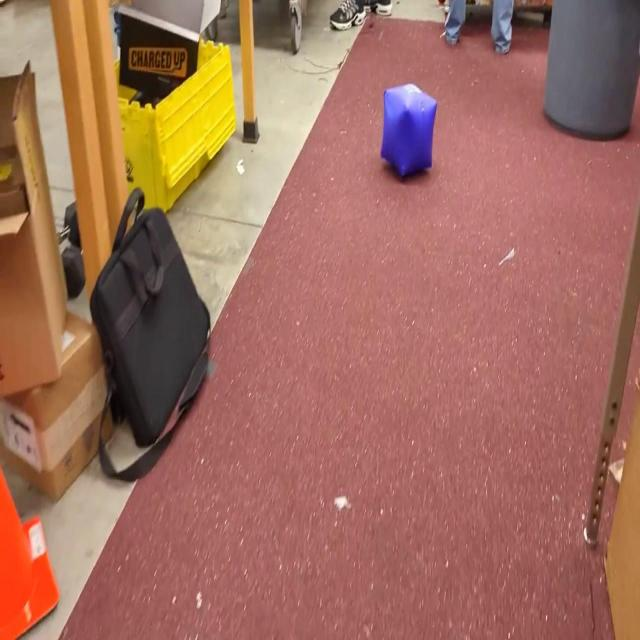frc_cube: (381, 81, 439, 182)
